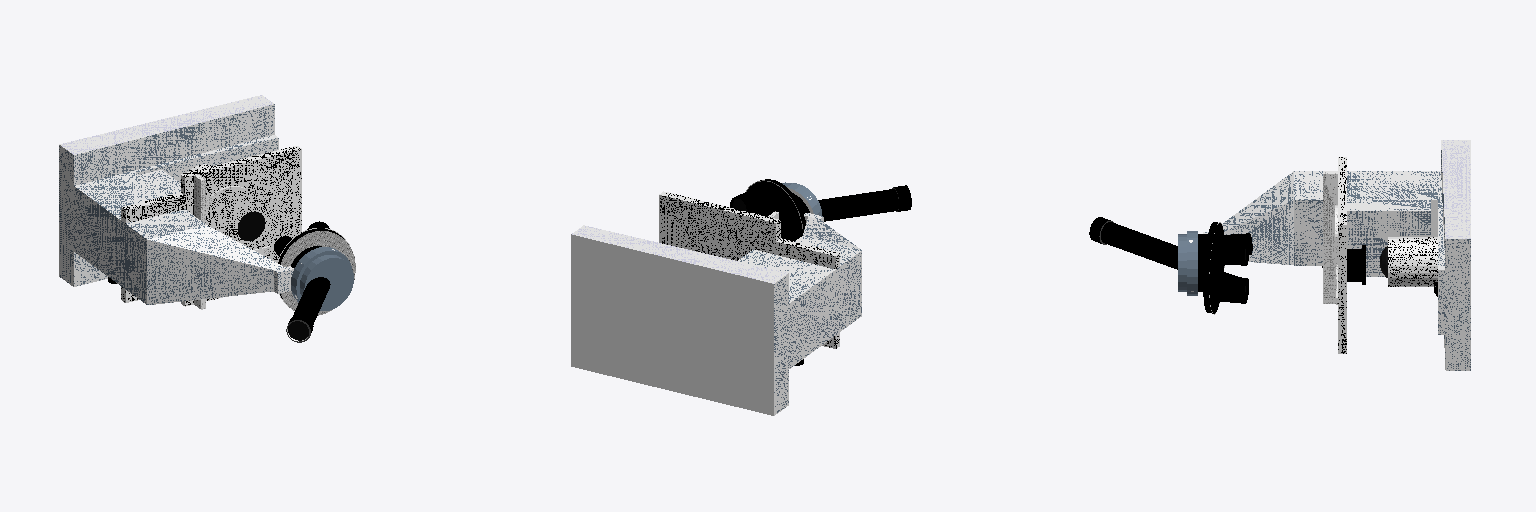
3 renders of one model, left to right at view 1: azimuth 30°, elevation 25°; view 2: azimuth 150°, elevation 25°; view 3: azimuth 270°, elevation 25°, orthographic.
Parts seen in each view (by area): view 1: microscope mikroskop; view 2: microscope mikroskop; view 3: microscope mikroskop.
Part boxes in pixels (x1,y1,x2,y2): microscope mikroskop: (59,95,355,342); microscope mikroskop: (571,179,911,415); microscope mikroskop: (1089,140,1470,370).
Size of the model in its own units: 132 by 83.74 by 214.
Materials: 11 (1 with a texture image).